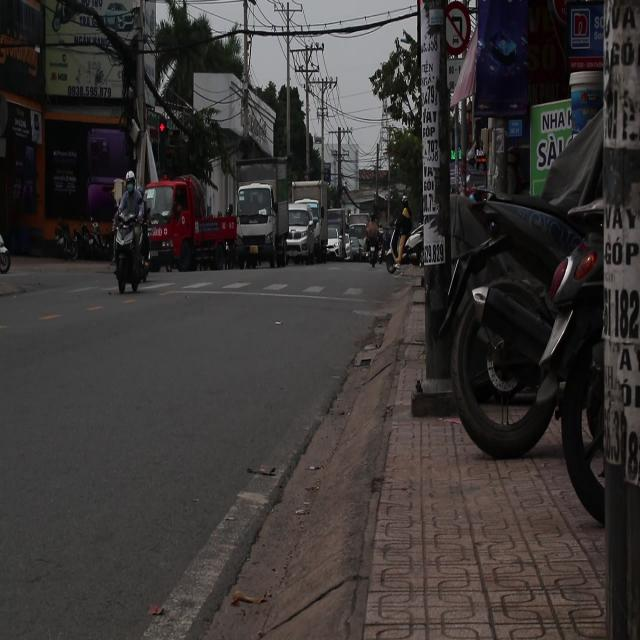car: (284, 203, 322, 262), (322, 208, 346, 260), (344, 222, 368, 260)
motorbike: (110, 184, 152, 296)
truck: (141, 176, 236, 273), (235, 172, 286, 271)
